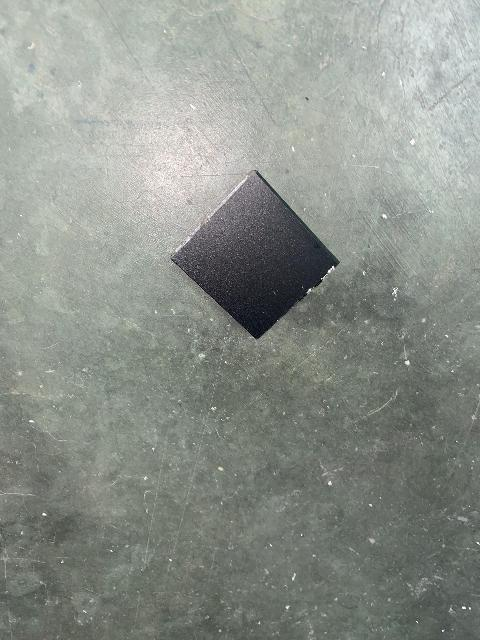Metal: (171, 170, 341, 340)
